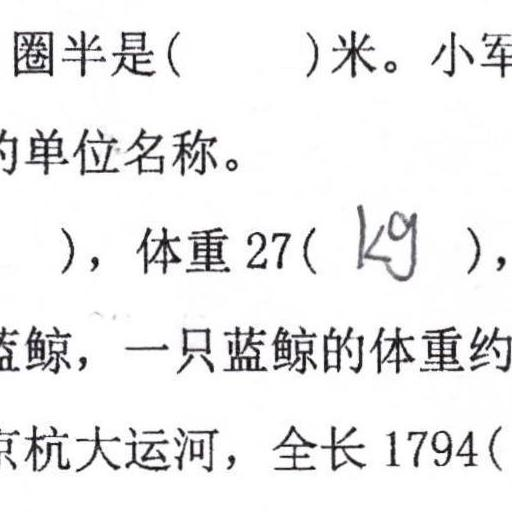ans: (347, 197, 420, 283)
